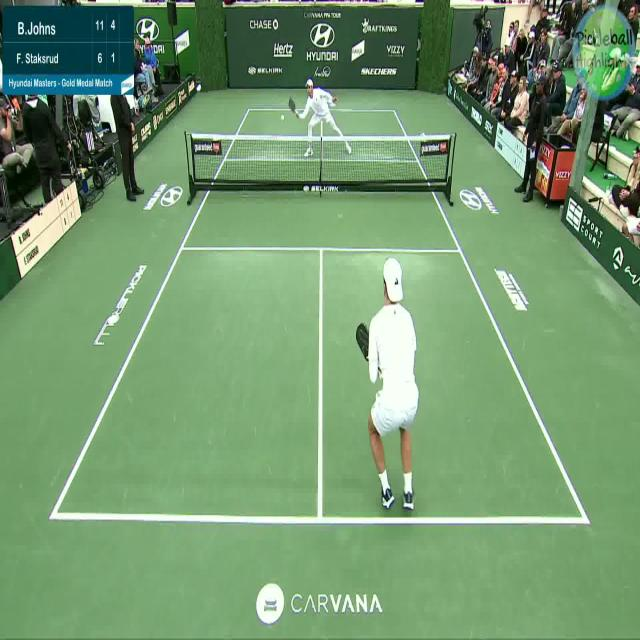Court: (50, 110, 587, 521)
ball: (278, 114, 288, 125)
